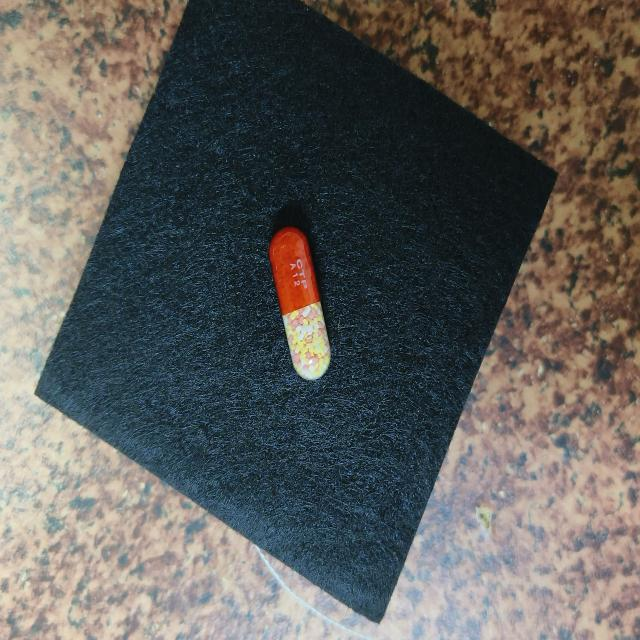Intact Capsule: (269, 227, 331, 380)
